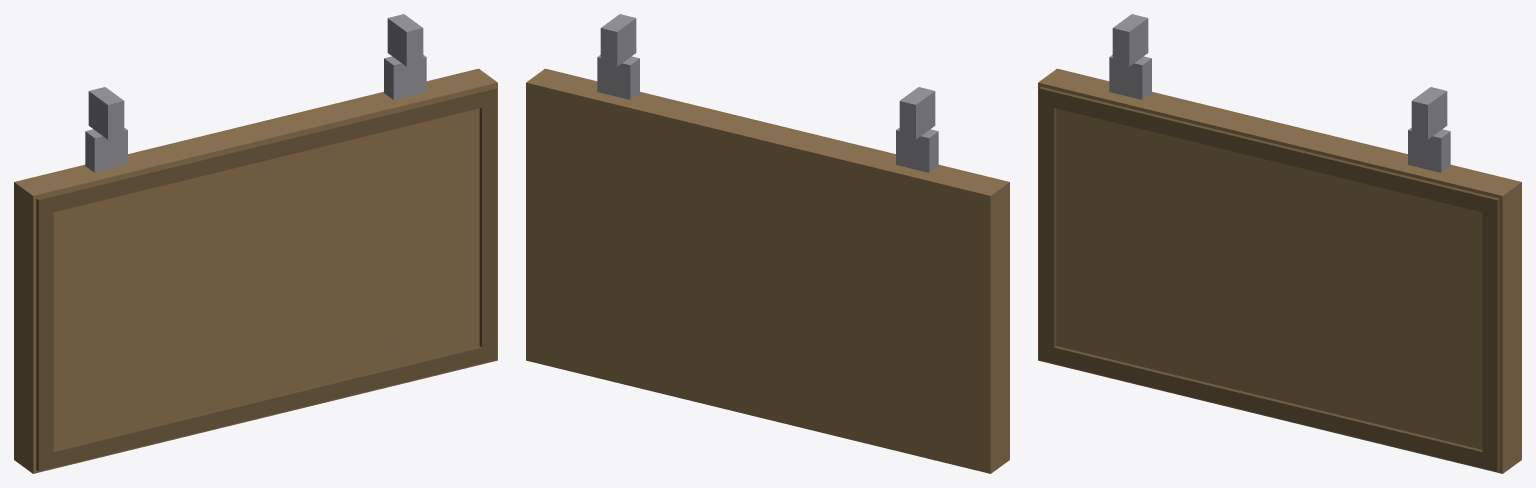
Rendered from sign_dark_oak_hang.gltf.
The picture shows the model from 3 angles, left to right: view 1: azimuth 30°, elevation 25°; view 2: azimuth 150°, elevation 25°; view 3: azimuth 330°, elevation 25°; orthographic projection.
Visible parts, largest first — view 1: sign_dark_oak_hang; view 2: sign_dark_oak_hang; view 3: sign_dark_oak_hang.
Boxes of the visible parts, left/top/right/bottom form: sign_dark_oak_hang: left=14, top=14, right=497, bottom=473; sign_dark_oak_hang: left=526, top=14, right=1009, bottom=473; sign_dark_oak_hang: left=1038, top=14, right=1521, bottom=473.
Size of the model in its own units: 0.875 by 0.631 by 0.07.
